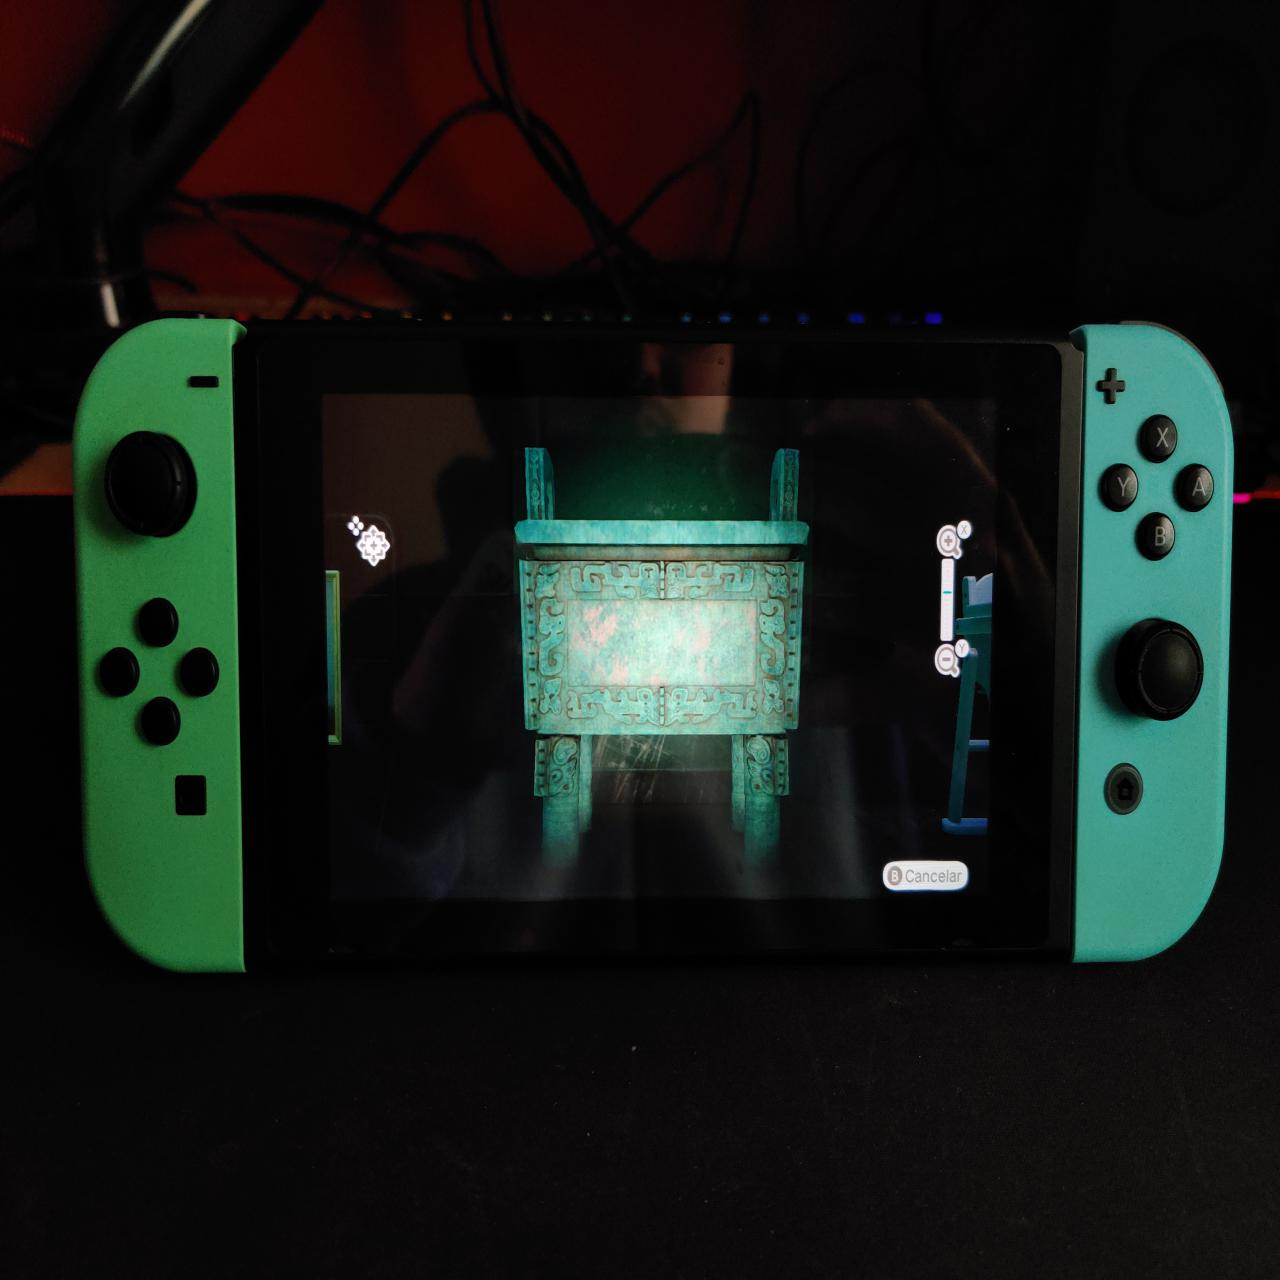HoumuwuDing: (508, 436, 816, 880)
